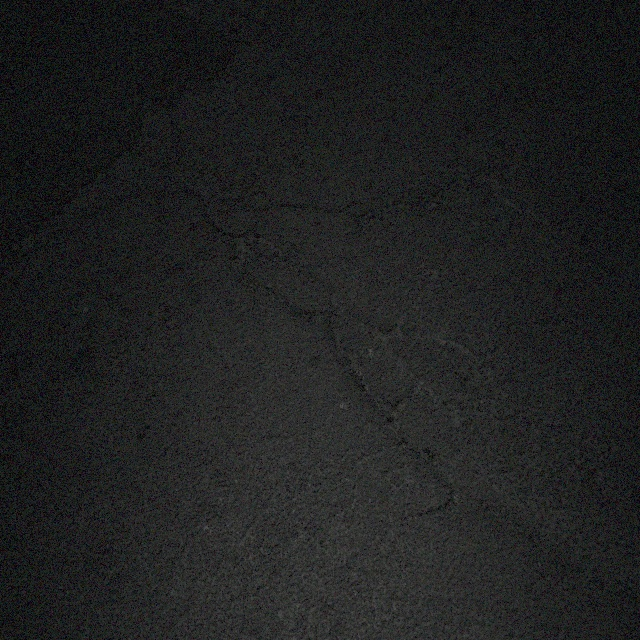pothole: (227, 235, 250, 283)
